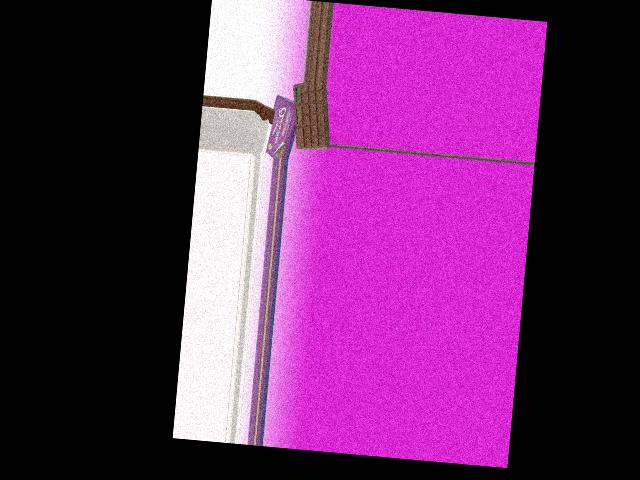chocolate: (286, 83, 335, 150)
